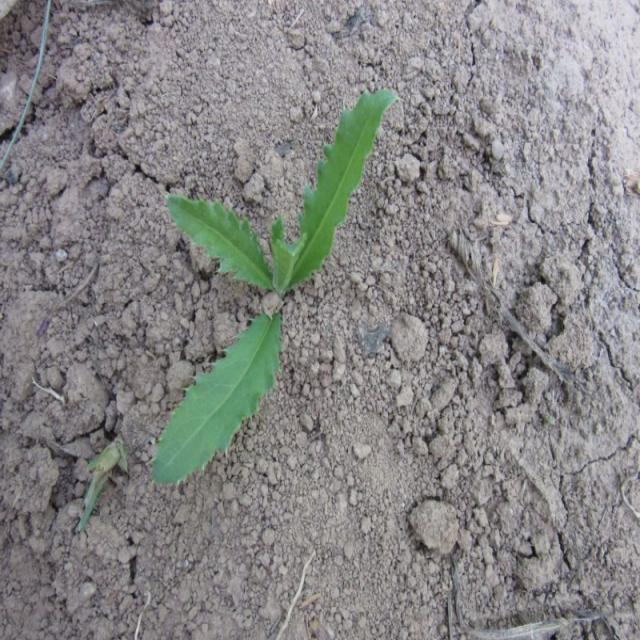field_thistle: (125, 64, 427, 500)
